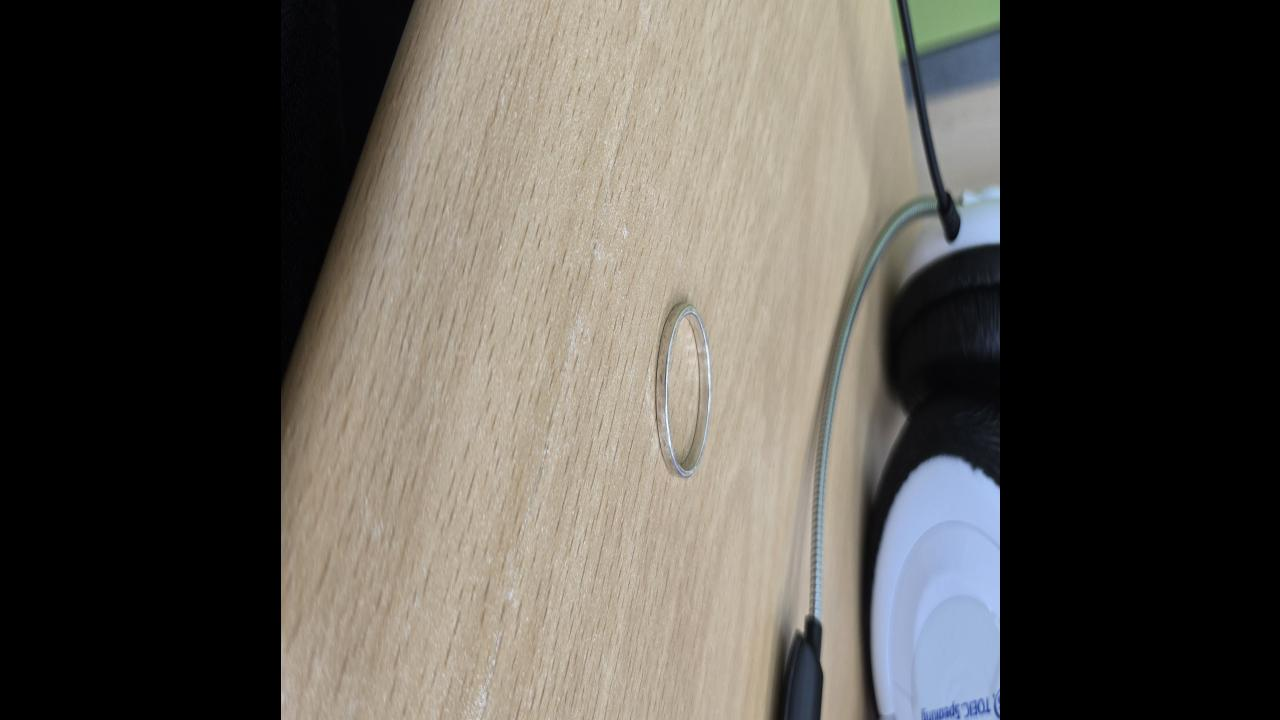ring: (653, 303, 711, 483)
